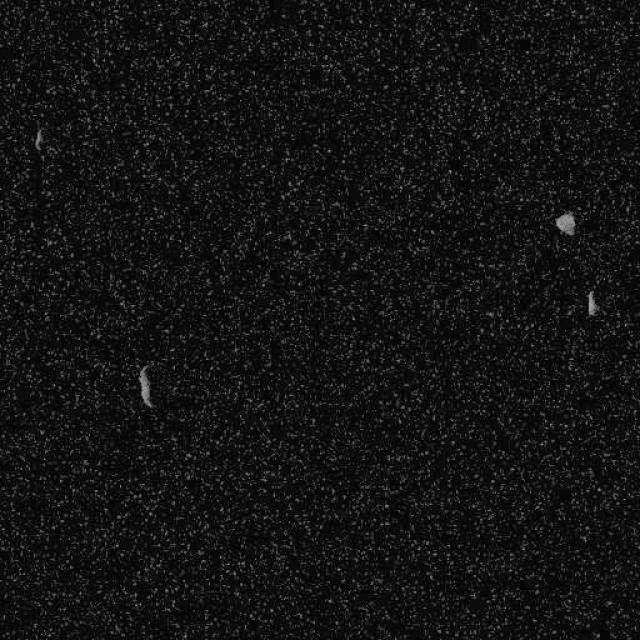D2: (138, 362, 154, 408), (554, 210, 576, 236), (586, 290, 598, 316), (33, 124, 45, 150)
